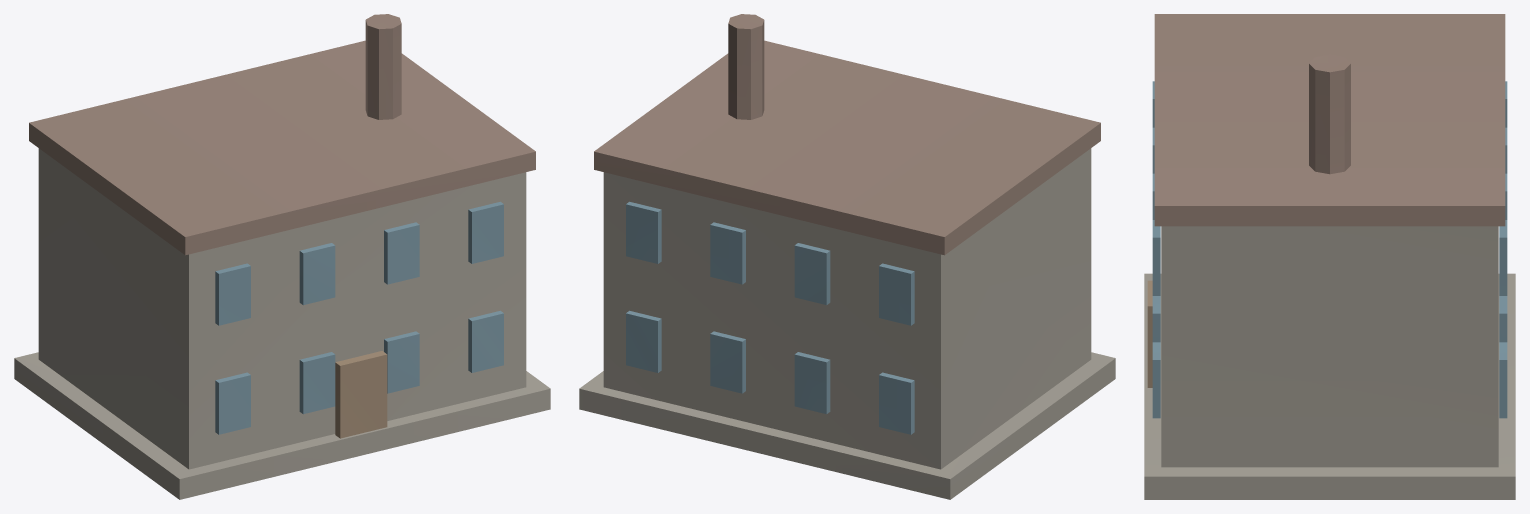
Rendered from factory-06.glb.
3 views of the same model, side by side, from view 1: azimuth 30°, elevation 25°; view 2: azimuth 150°, elevation 25°; view 3: azimuth 270°, elevation 25° (orthographic). The views are drawn at different scales.
Visible parts, largest first — view 1: world; view 2: world; view 3: world.
Part boxes in pixels (x1=…): world: x1=14, y1=14, x2=550, y2=499; world: x1=579, y1=14, x2=1115, y2=499; world: x1=1144, y1=14, x2=1515, y2=499.
Size of the model in its own units: 1.5 by 1.34 by 1.15.
